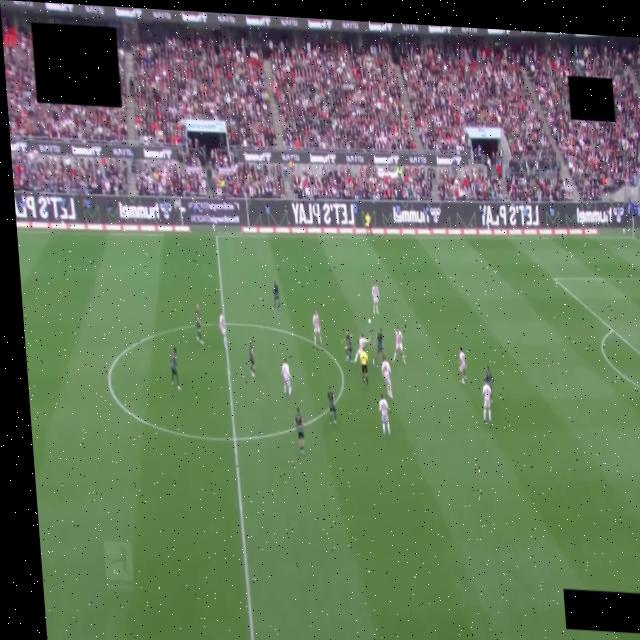ball: (367, 319, 370, 324)
player: (378, 395, 390, 435), (294, 408, 304, 455), (381, 356, 392, 398), (169, 348, 180, 390), (392, 326, 404, 363), (354, 333, 368, 362), (372, 329, 383, 364), (281, 358, 291, 395), (194, 305, 203, 344), (327, 386, 336, 425), (312, 311, 321, 345), (482, 383, 490, 421), (458, 347, 466, 384), (248, 339, 255, 377), (219, 311, 226, 348), (344, 331, 352, 361), (272, 281, 280, 310), (484, 365, 493, 389), (372, 284, 378, 314)
referee: (359, 350, 367, 387)
